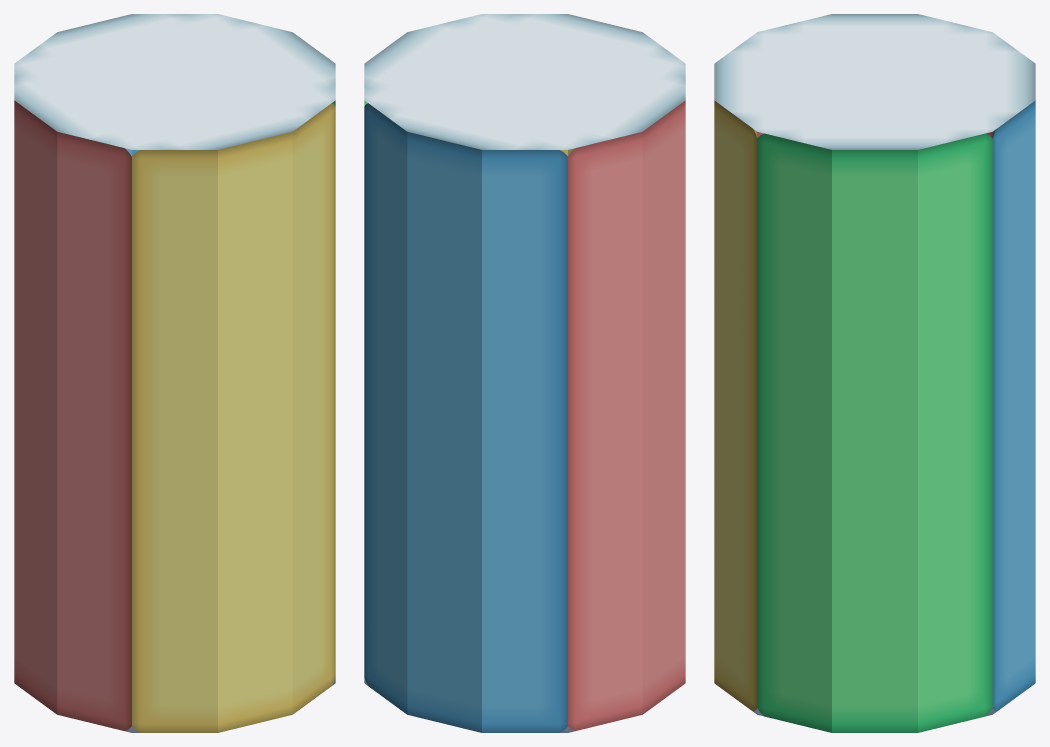
The model's file is wiiu.obj.
The picture shows the model from 3 angles, left to right: view 1: azimuth 30°, elevation 25°; view 2: azimuth 150°, elevation 25°; view 3: azimuth 270°, elevation 25°; orthographic projection.
Visible parts, largest first — view 1: cylinder; view 2: cylinder; view 3: cylinder.
Part boxes in pixels (x1,y1,x2,y2): cylinder: [14, 14, 335, 732]; cylinder: [364, 14, 685, 732]; cylinder: [714, 14, 1035, 732].
Bounding box in the file's own units: 1 × 2 × 1.
